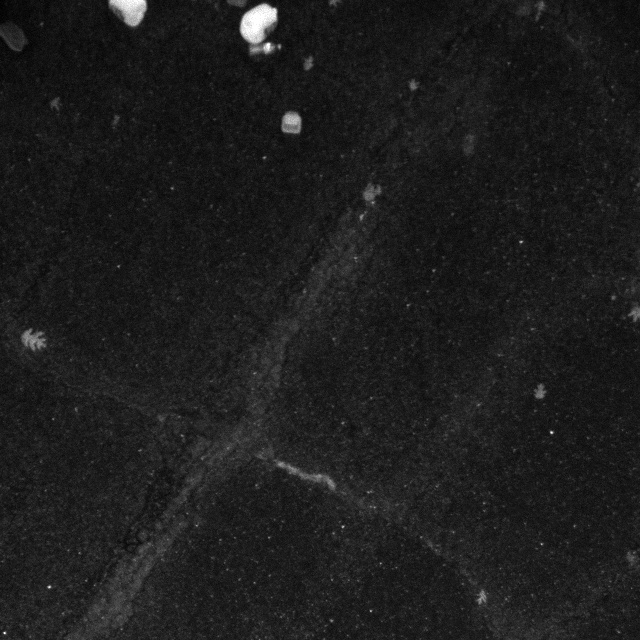bottle: (245, 40, 287, 59)
container: (273, 107, 309, 142)
